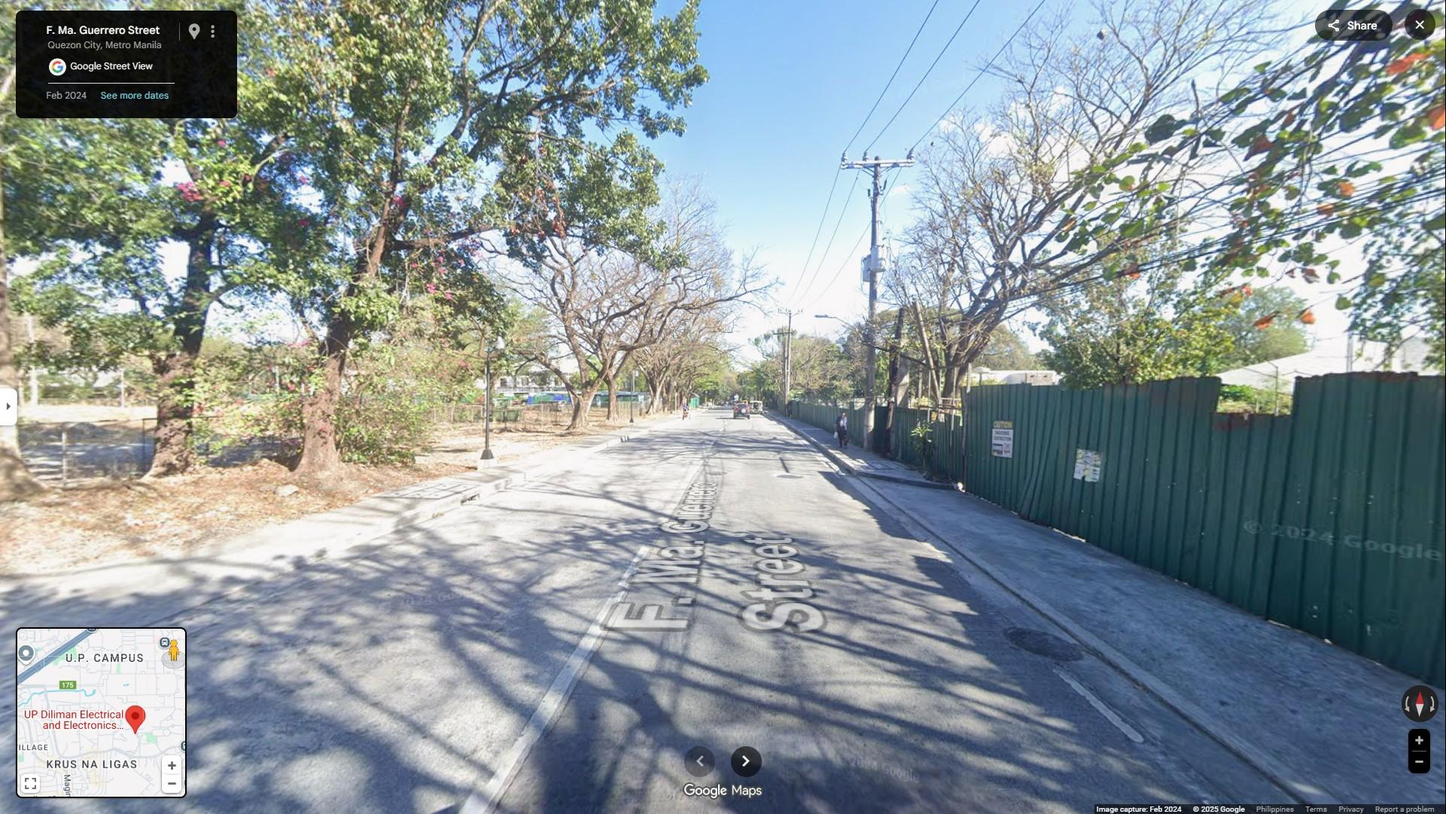pedestrian: (834, 409, 849, 451), (682, 401, 687, 416)
